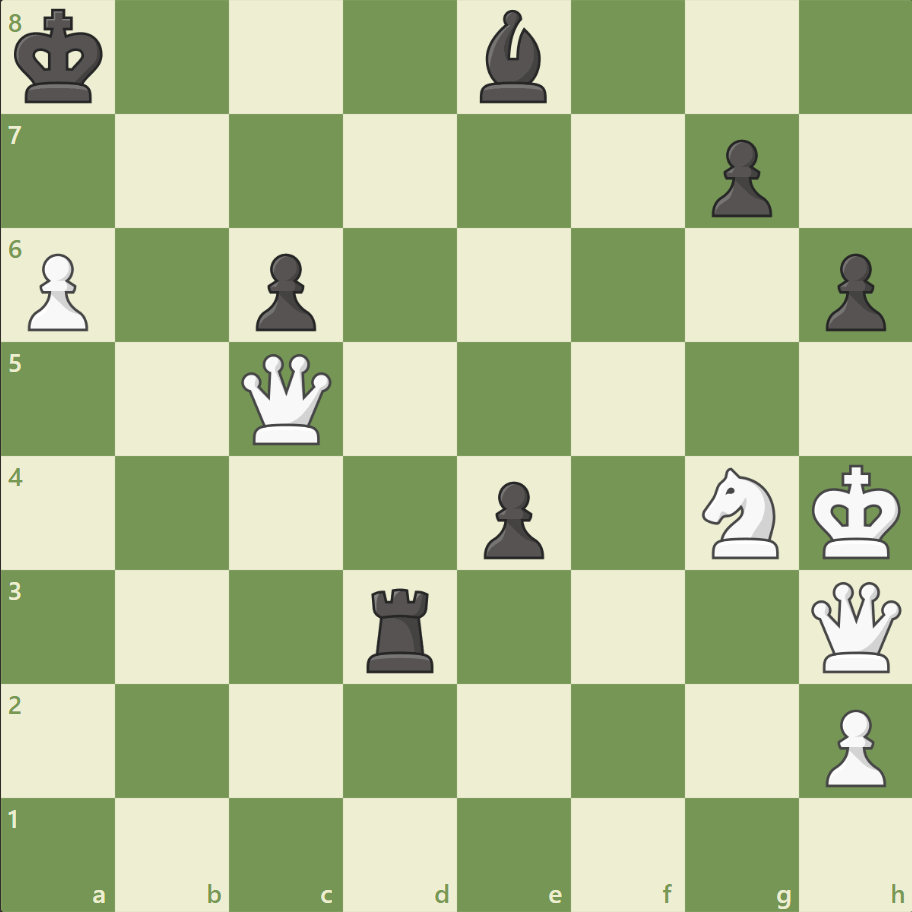K: (806, 458, 906, 566)
N: (692, 461, 789, 564)
P: (20, 246, 95, 337), (815, 700, 889, 791)
Q: (237, 349, 336, 449), (805, 576, 904, 676)
b: (471, 6, 555, 109)
k: (11, 4, 111, 112)
p: (701, 132, 776, 223), (247, 246, 322, 337), (474, 473, 549, 564), (815, 246, 889, 337)
r: (360, 579, 442, 676)
